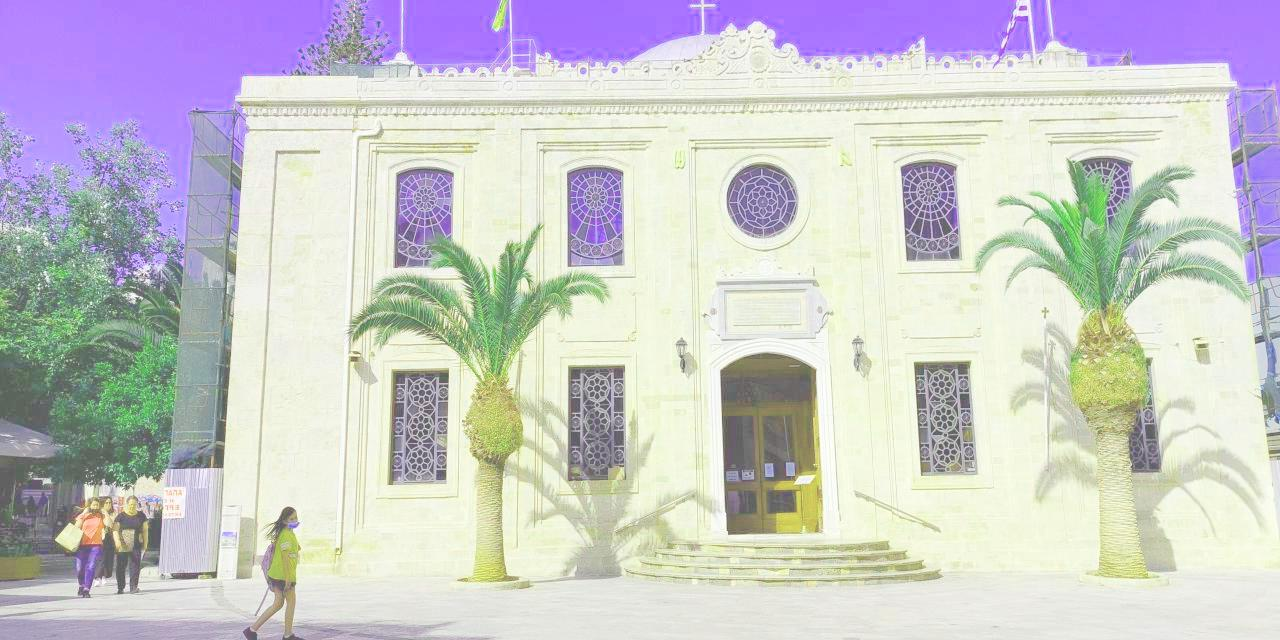Agios Titos: (215, 60, 1235, 584)
